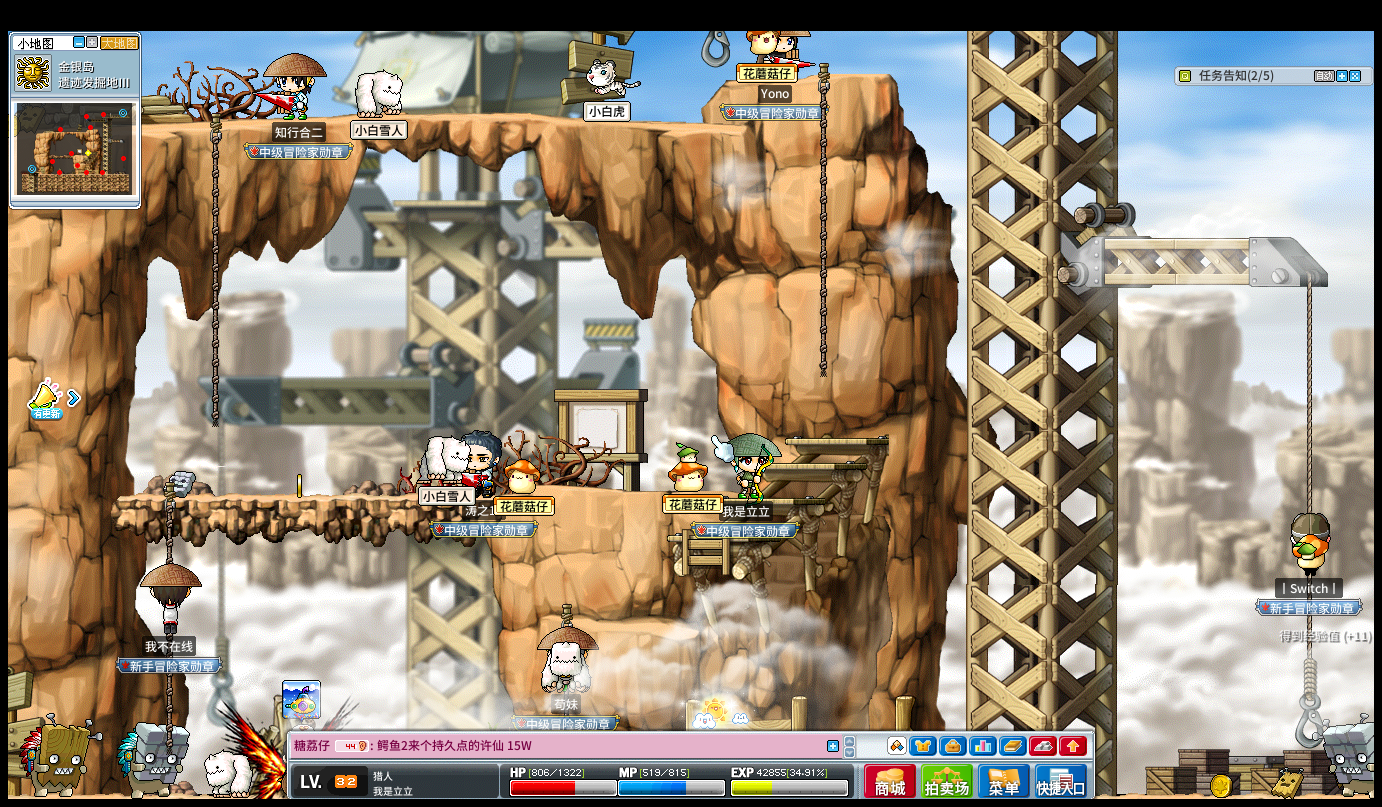floor: (146, 108, 760, 137), (110, 492, 499, 502), (1098, 232, 1300, 248), (590, 618, 698, 639), (727, 68, 897, 81), (611, 488, 780, 498), (646, 495, 823, 504), (608, 487, 755, 496), (787, 435, 889, 447), (758, 460, 861, 469), (728, 496, 824, 504)
monster: (16, 715, 101, 793), (117, 722, 187, 795), (1321, 721, 1381, 794)
rope: (815, 58, 829, 372), (208, 109, 220, 426), (1302, 284, 1316, 492), (163, 481, 176, 563), (1303, 621, 1314, 700), (1303, 635, 1316, 701), (1302, 448, 1316, 509), (164, 674, 174, 729)
